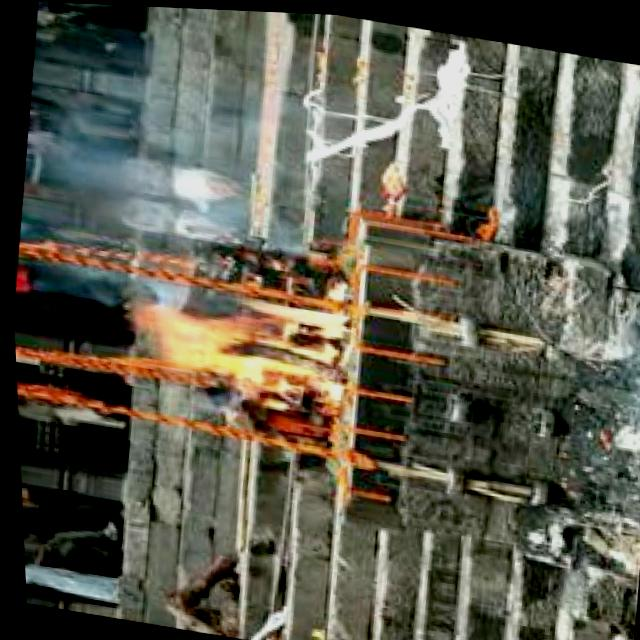Fire: (127, 270, 357, 414)
